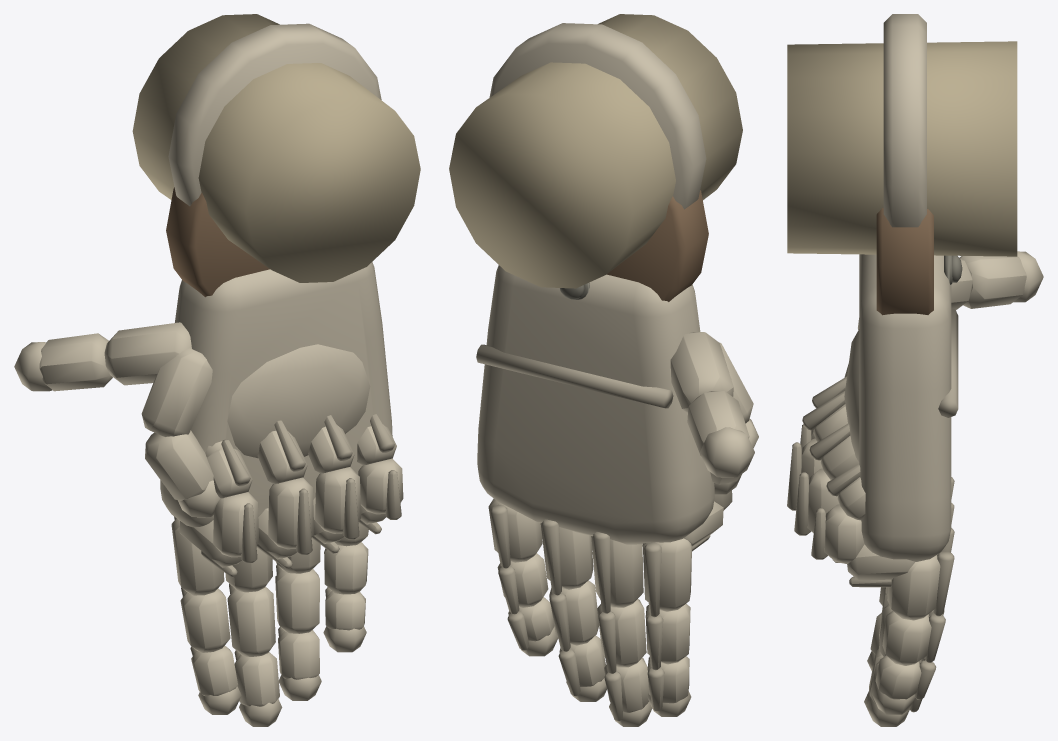
File: glove-t0.glb
The picture shows the model from 3 angles, left to right: view 1: azimuth 30°, elevation 25°; view 2: azimuth 150°, elevation 25°; view 3: azimuth 270°, elevation 25°; orthographic projection. The views are drawn at different scales.
Visible parts, largest first — view 1: glove_fist, glove_open; view 2: glove_fist, glove_open; view 3: glove_fist, glove_open.
Boxes of the visible parts, x1,y1,x2,y2 form: glove_fist: [132, 14, 420, 577]; glove_open: [14, 322, 368, 726]; glove_fist: [449, 14, 758, 551]; glove_open: [488, 332, 754, 726]; glove_fist: [787, 14, 1017, 587]; glove_open: [864, 251, 1043, 726].
Bounding box in the file's own units: 0.1289 × 0.2725 × 0.0893.
